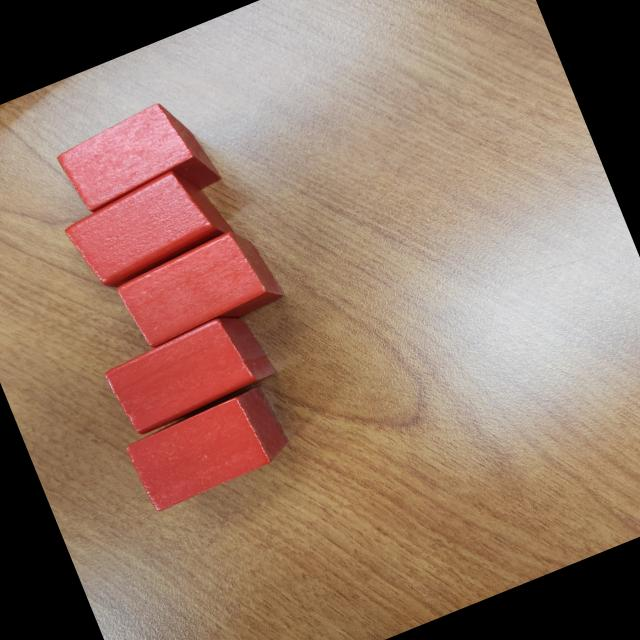red: (55, 156, 242, 298), (100, 302, 286, 439), (50, 90, 224, 236), (109, 218, 288, 358), (119, 379, 299, 518)
